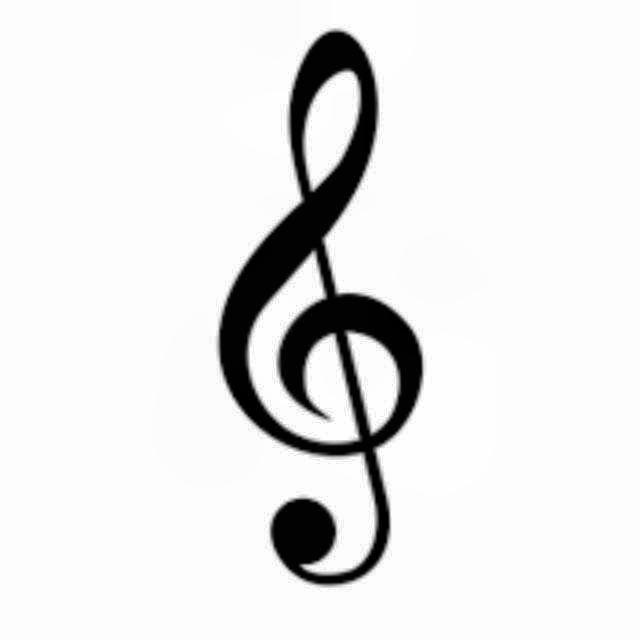Treble-clef: (166, 14, 470, 616)
